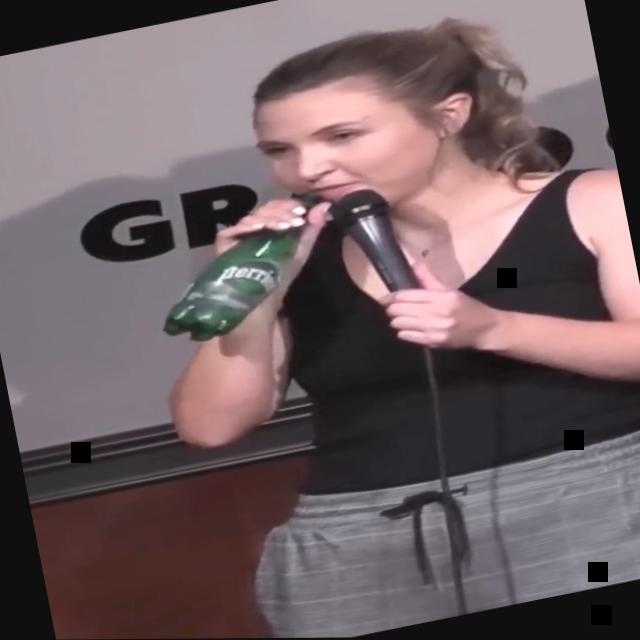NO-Mask: (250, 67, 448, 233)
